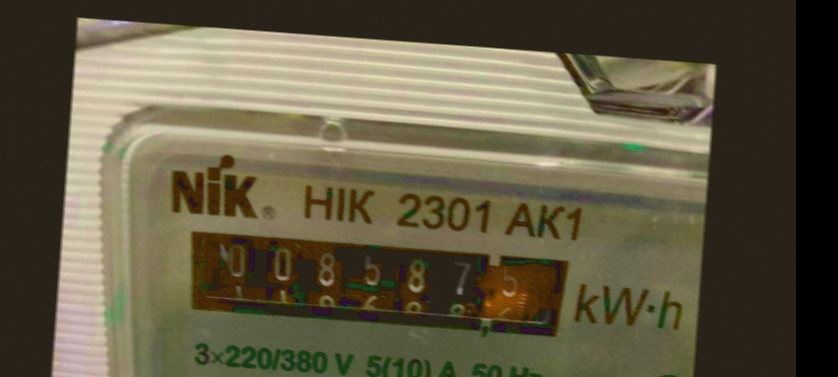0: (268, 242, 295, 284)
1: (222, 239, 249, 282)
5: (497, 260, 524, 302), (359, 250, 385, 289)
7: (448, 257, 474, 300)
8: (312, 247, 340, 290), (404, 254, 428, 297)
screen: (164, 210, 589, 359)
